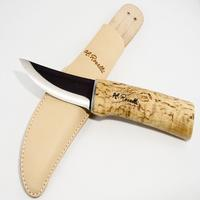knife: (8, 51, 200, 142)
